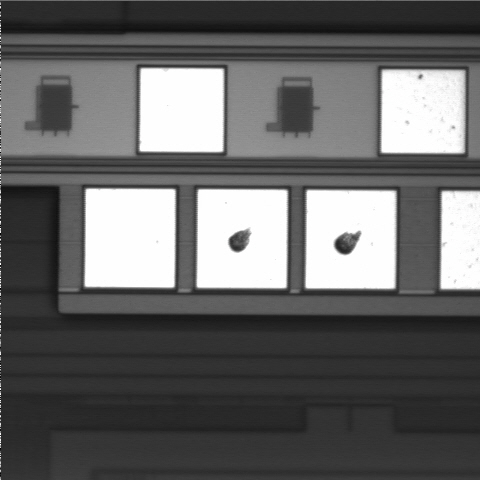pad: (85, 189, 175, 288), (197, 189, 287, 288), (306, 190, 396, 289), (140, 68, 224, 152), (381, 70, 464, 153)
